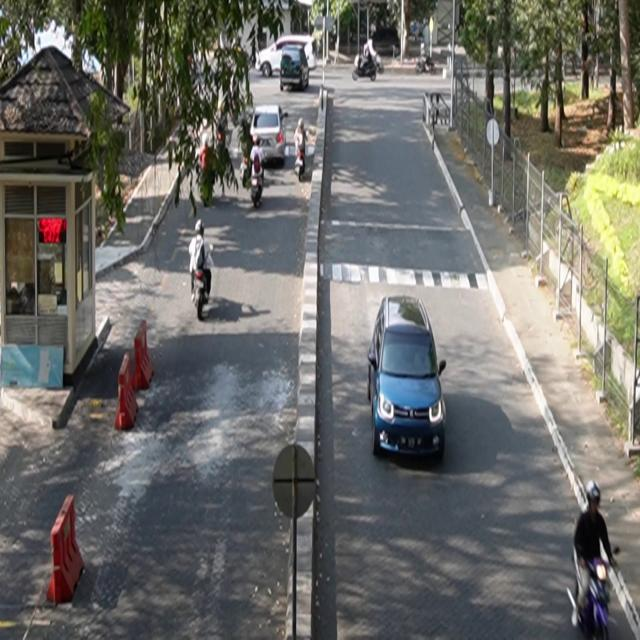car: (368, 295, 448, 461)
